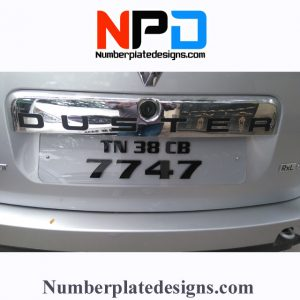number_plate: (36, 132, 261, 188)
